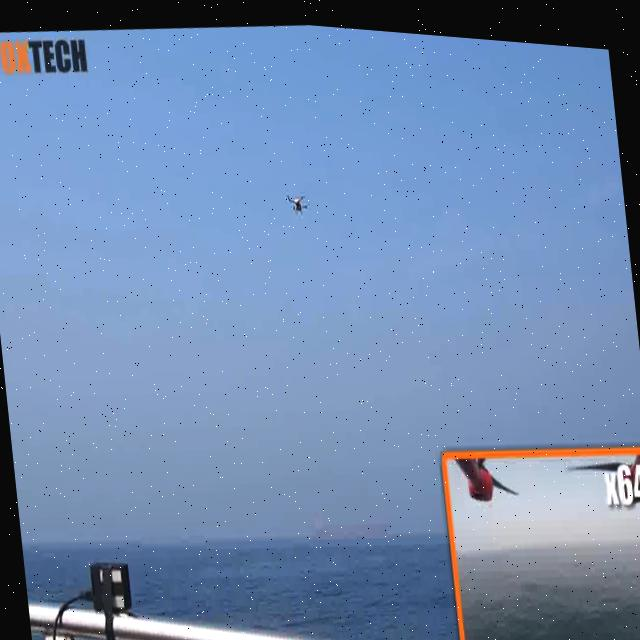drone: (274, 169, 316, 230)
